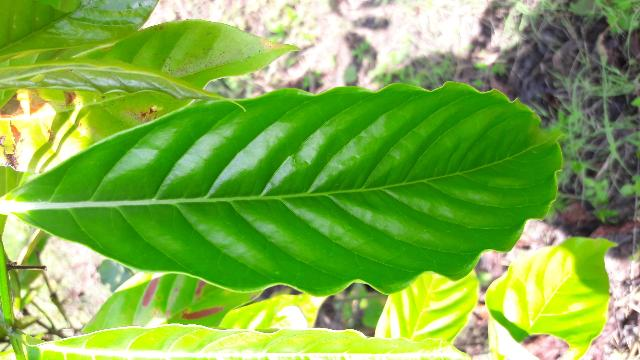healthy: (0, 82, 562, 295)
